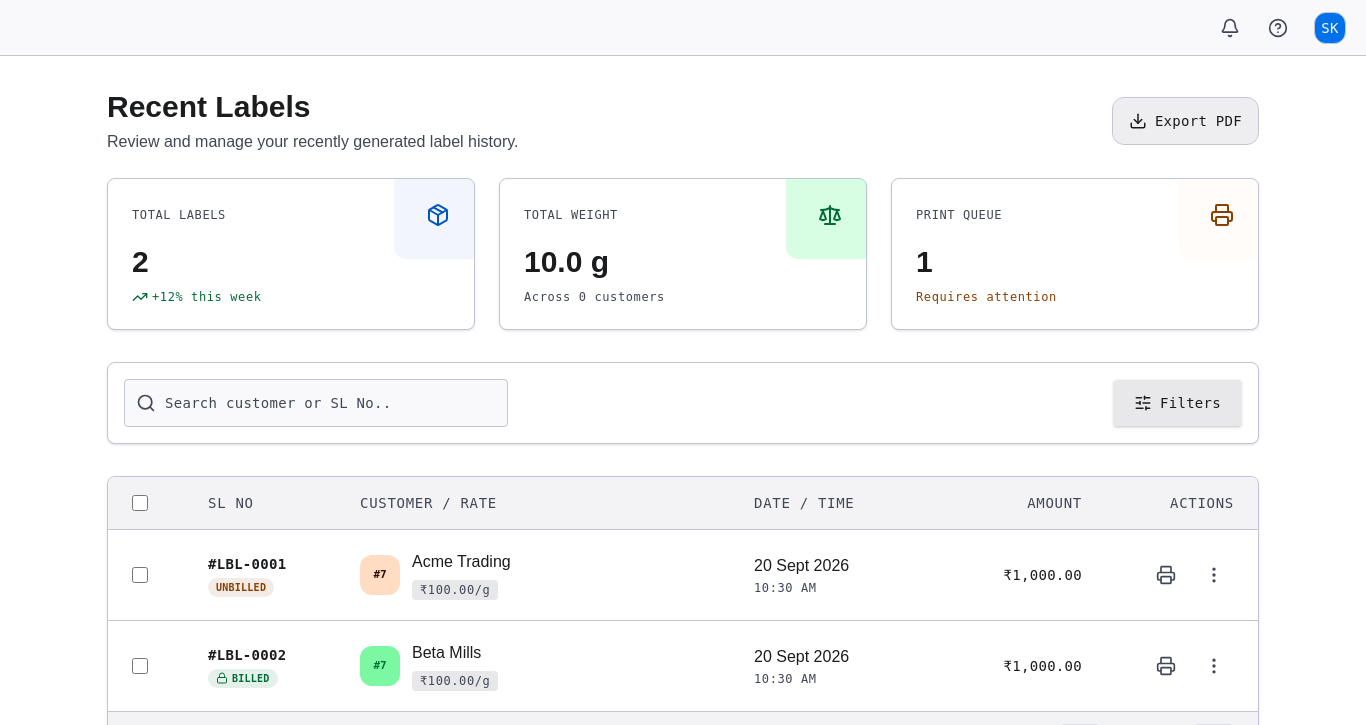
Test: Dashboard bulk selection › shows the bulk action bar only when rows are selected
expect the text "selected" is not shown: met
Click the checkbox named "Select label LBL-0001". click: (140, 575)
box: [132, 567, 148, 583]
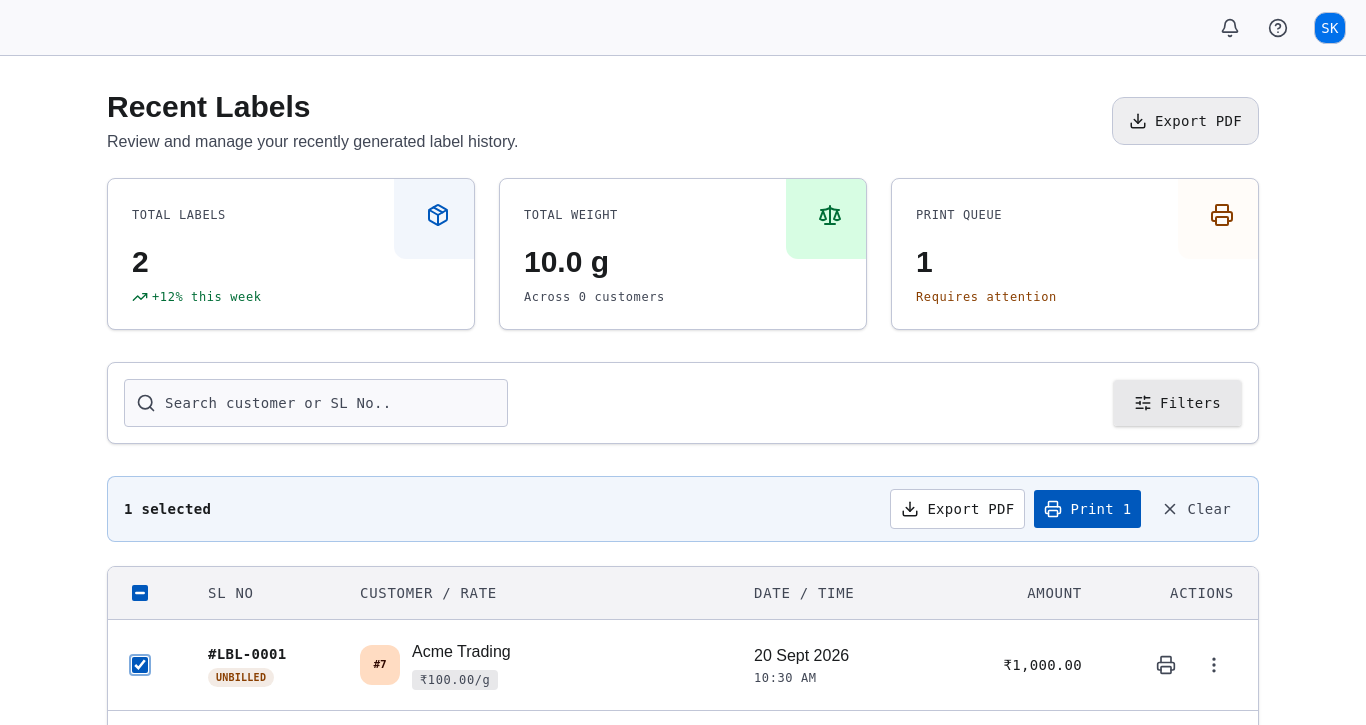
expect the text "1 selected" is shown: met, box [124, 499, 211, 519]
expect the button "Print 1" is shown: met, box [1034, 489, 1142, 529]
